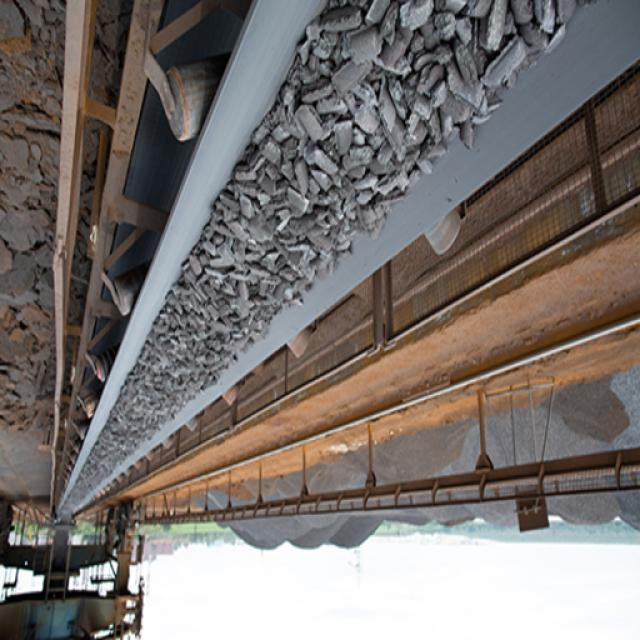conveyor: (56, 1, 640, 517)
